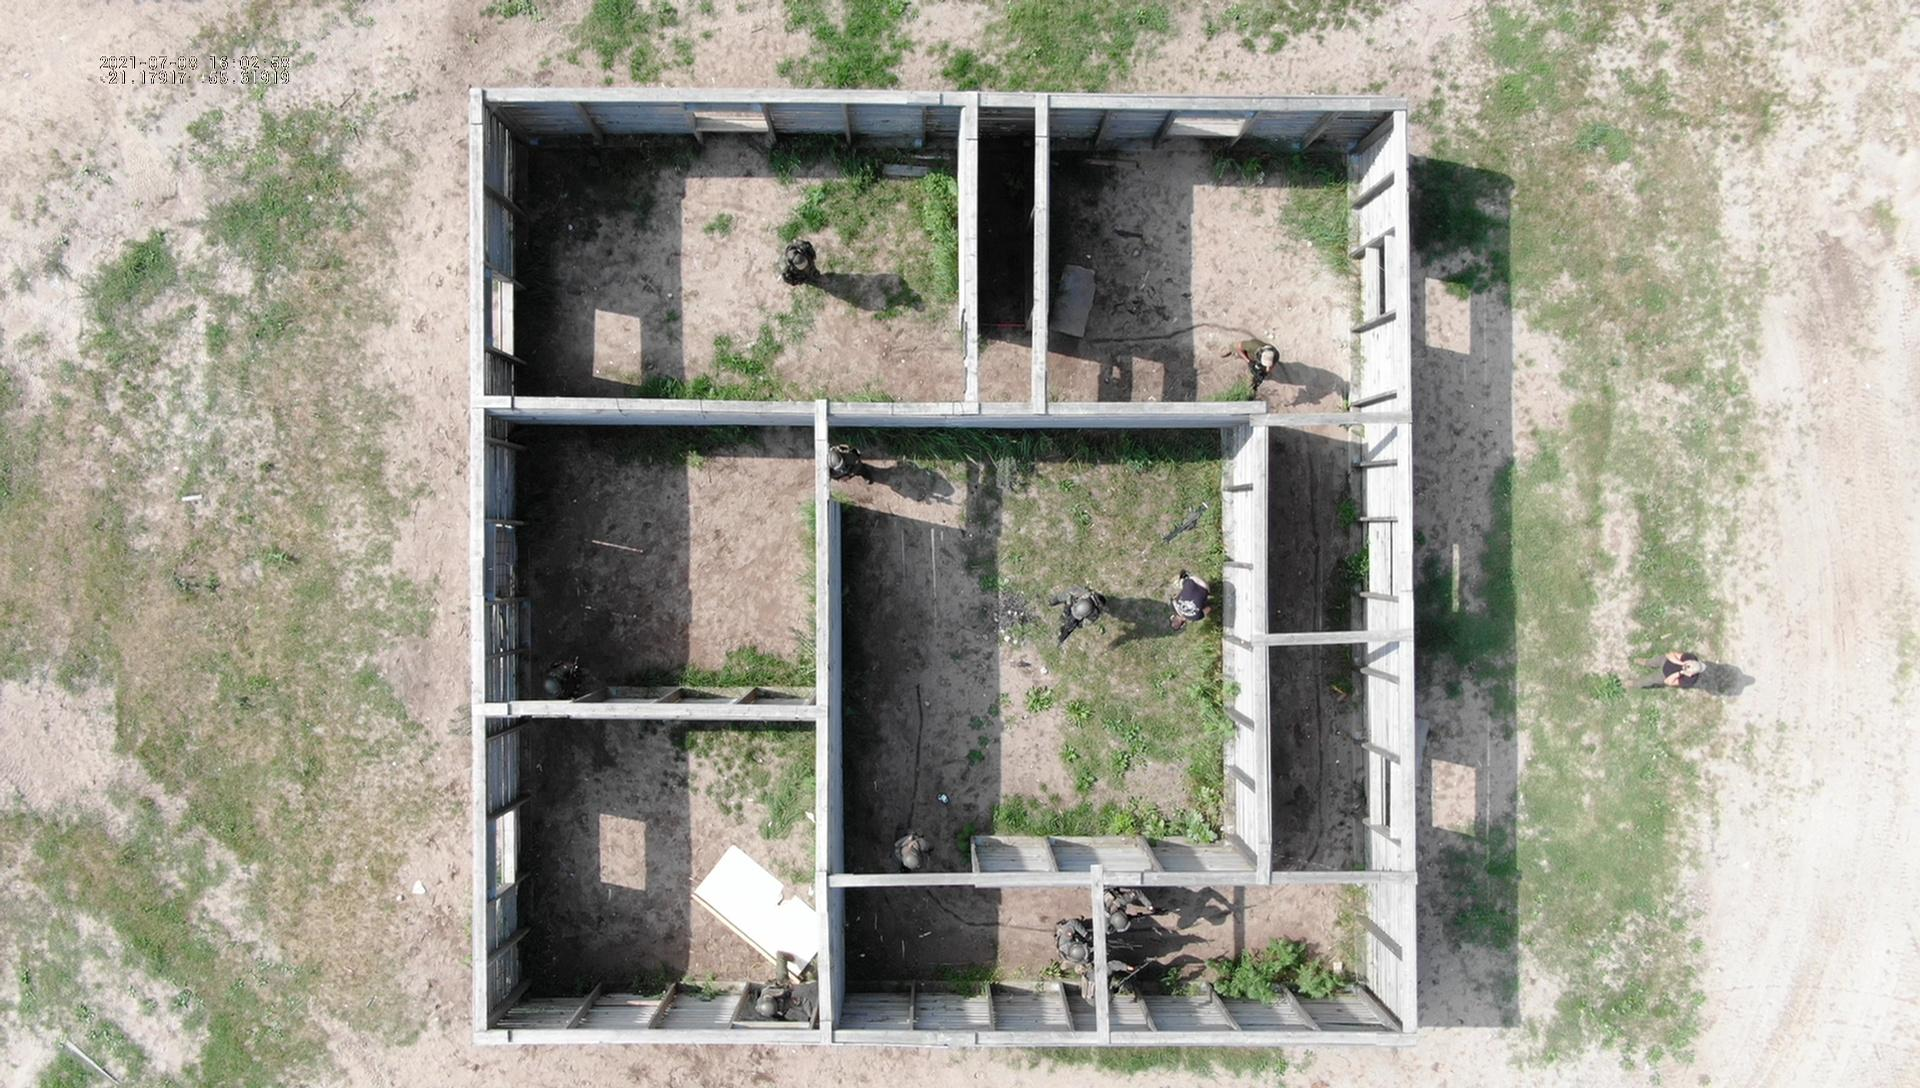Soldier: (1156, 560, 1229, 646), (740, 942, 806, 1021), (1044, 575, 1109, 655), (1044, 917, 1126, 976), (531, 638, 601, 707), (1230, 319, 1284, 400), (1104, 885, 1175, 944), (770, 227, 825, 295), (884, 810, 938, 874), (827, 443, 880, 493)
